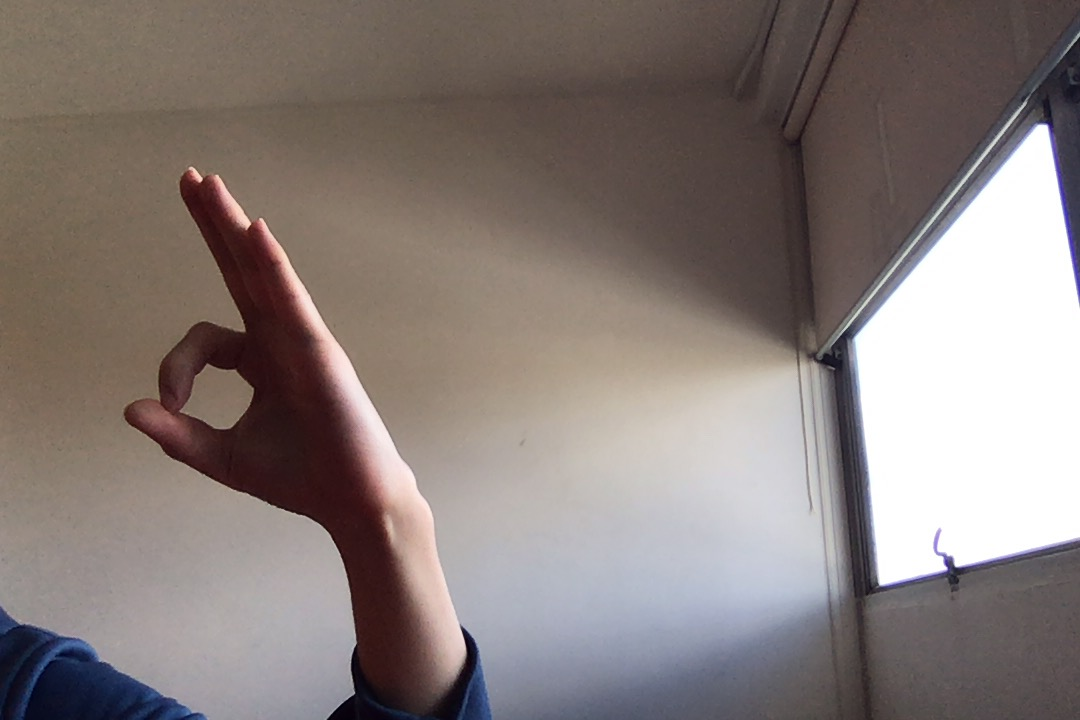oksign: (113, 164, 380, 526)
